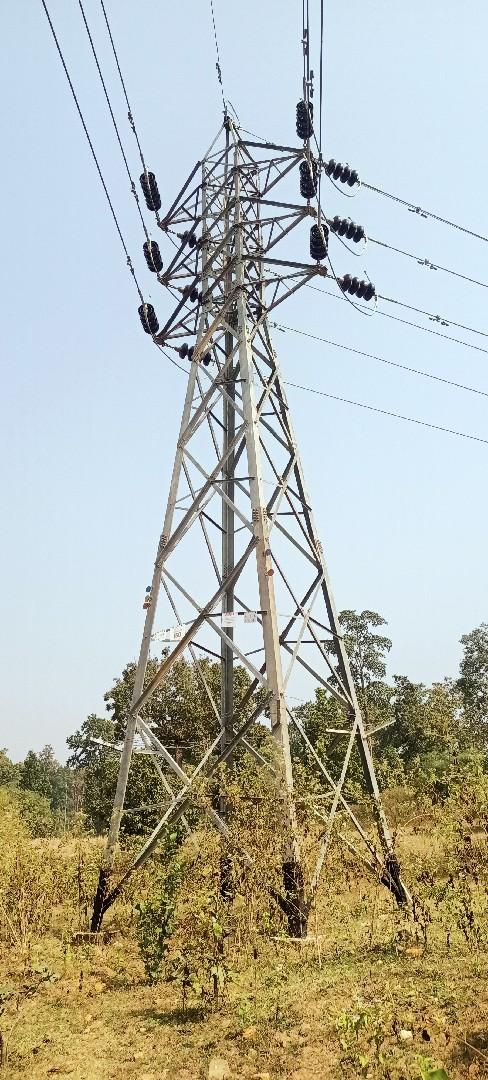GSM Antenna: (76, 98, 415, 780)
